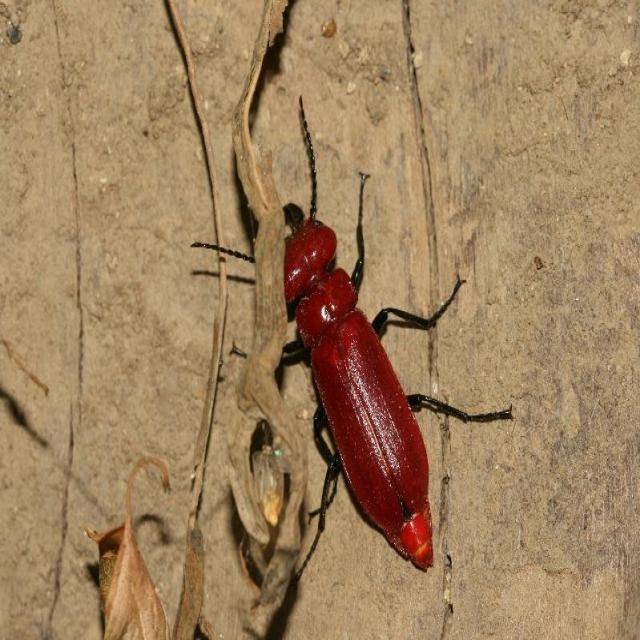BlisterBeetle-Adult-: (192, 92, 520, 574)
